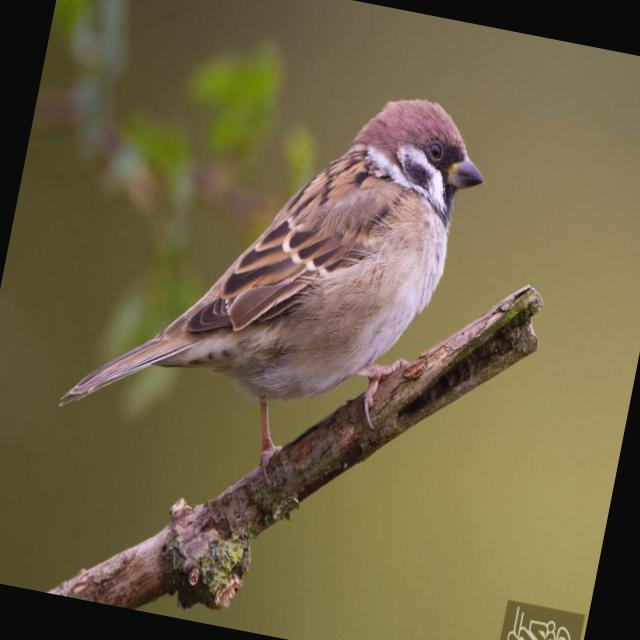bird: (39, 24, 506, 534)
